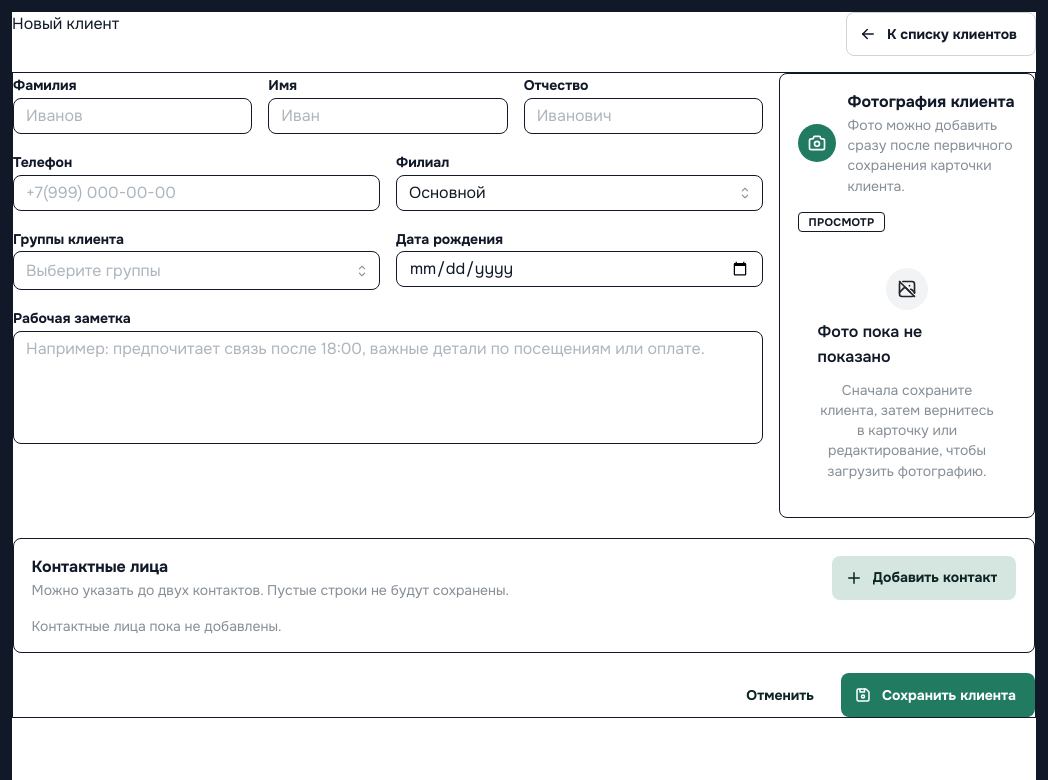
Test case: Client route forms › keeps the create draft and mapped ProblemDetails field errors
This screenshot has width=1048, height=780.
Check: the button "Сохранить клиента" is shown, box [841, 674, 1035, 718]
Type "  Иванов  " into the field labelled "Фамилия" at (133, 116), box [13, 98, 252, 134]
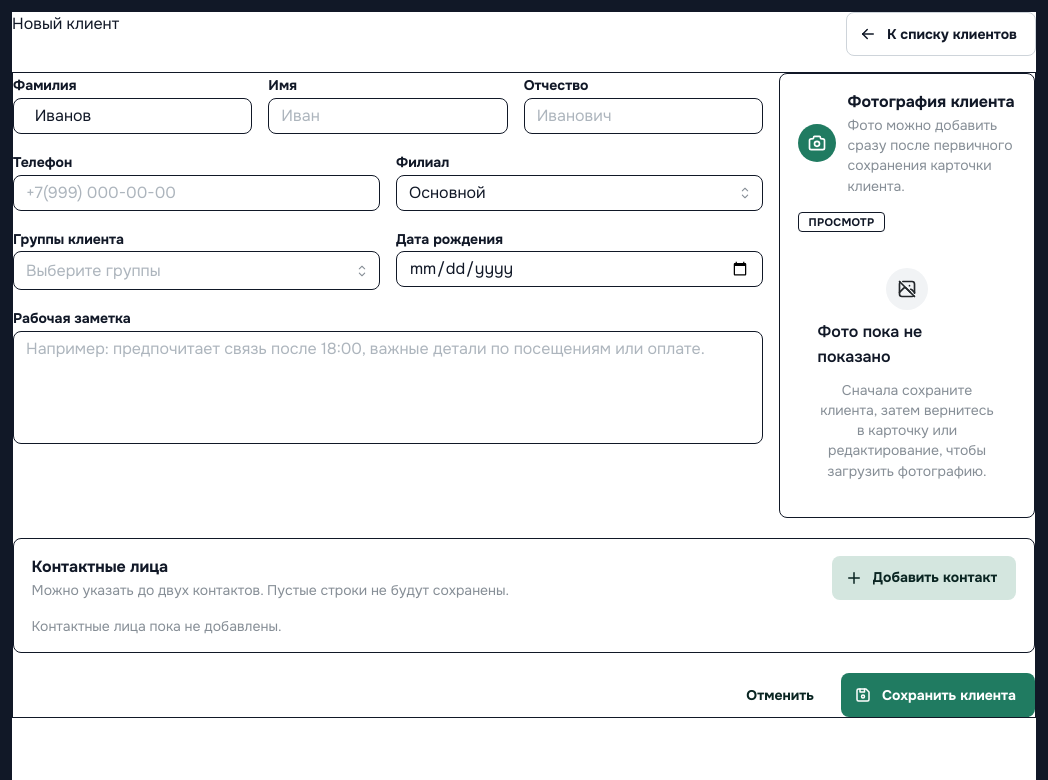
Type "  +7 999 000-00-00  " into the field labelled "Телефон" at (196, 193), box [13, 175, 380, 211]
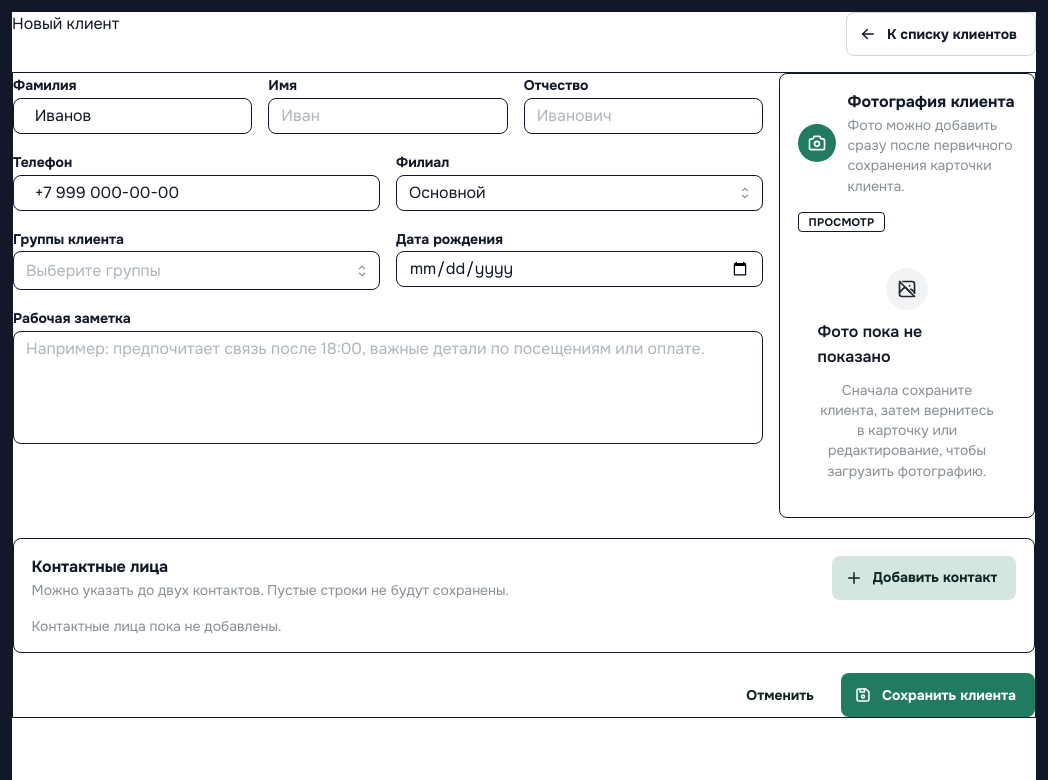
Replace the text in the text box labelled "Рабочая заметка" with "  Не звонить утром  " at (388, 387), box [13, 331, 763, 444]
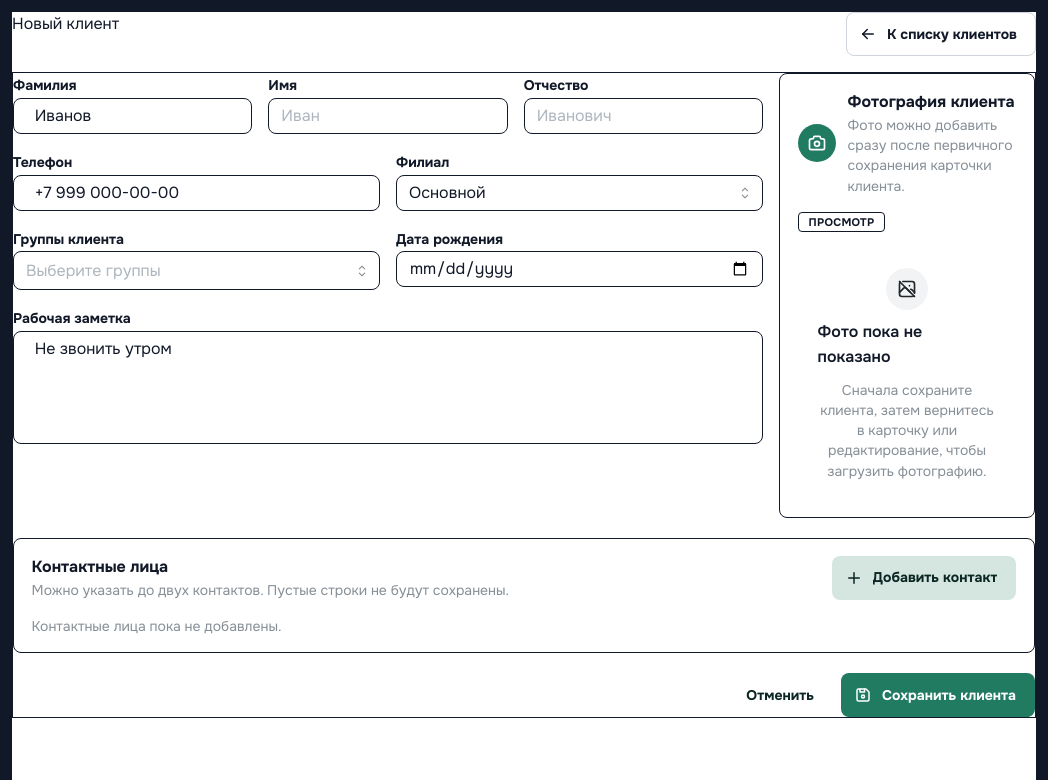
Click the button "Сохранить клиента" at (938, 696), box [841, 674, 1035, 718]
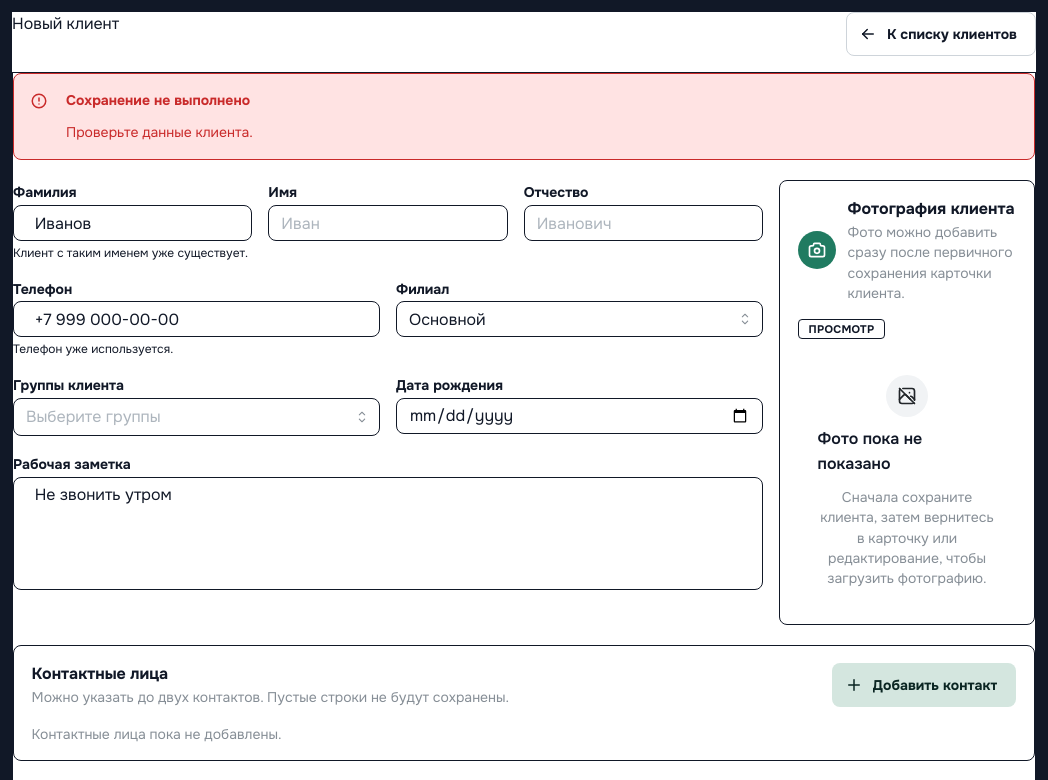
Check: the text "Проверьте данные клиента." is shown, box [66, 123, 253, 141]
Check: the text "Клиент с таким именем уже существует." is shown, box [13, 246, 252, 261]
Check: the text "Телефон уже используется." is shown, box [13, 341, 173, 357]
